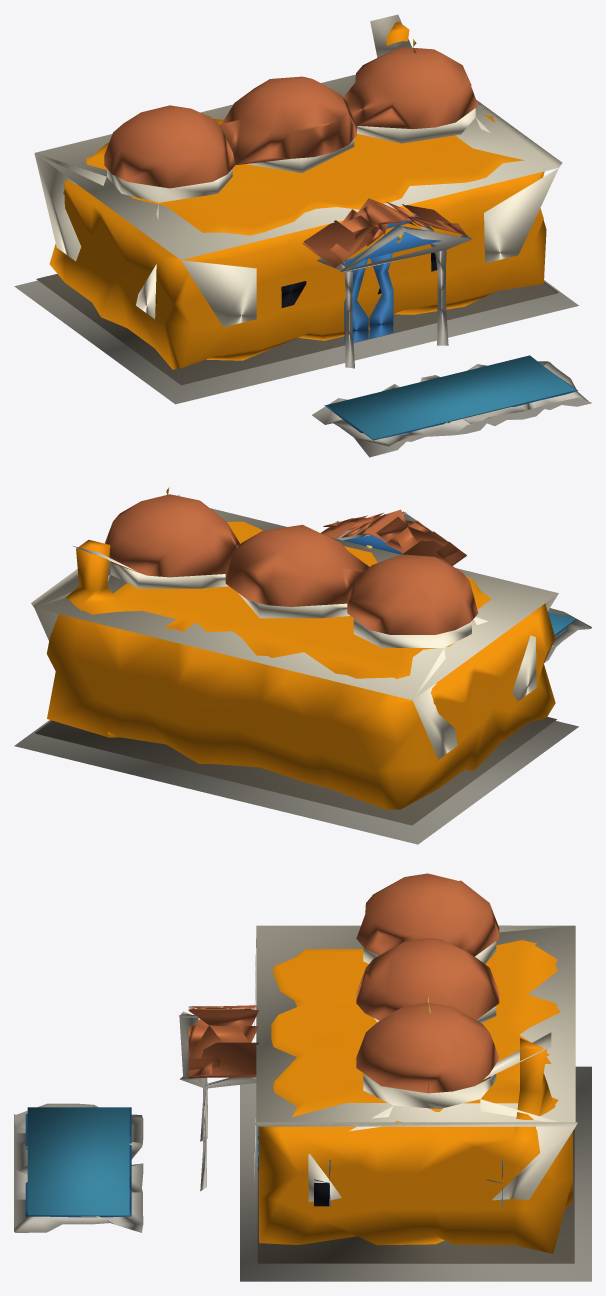
File: civic_bathhouse.glb
The picture shows the model from 3 angles, top to bottom: view 1: azimuth 30°, elevation 25°; view 2: azimuth 150°, elevation 25°; view 3: azimuth 270°, elevation 25°; orthographic projection. The views are drawn at different scales.
Visible parts, largest first — view 1: ochre, cream, terracotta0, step, water.001, stone_dark, marble, azure_wood, terracotta1, paint_azure, terracotta2, dark; view 2: ochre, terracotta0, cream, step, stone_dark, terracotta1, terracotta2; view 3: ochre, terracotta0, cream, step, water.001, stone_dark, terracotta1, marble, terracotta2, paint_azure.
Part boxes in pixels (left/top/right/bottom): ochre: left=49, top=22, right=546, bottom=369; cream: left=34, top=14, right=562, bottom=327; terracotta0: left=104, top=47, right=478, bottom=267; step: left=14, top=280, right=591, bottom=457; water.001: left=326, top=355, right=575, bottom=440; stone_dark: left=36, top=274, right=558, bottom=385; marble: left=317, top=224, right=472, bottom=368; azure_wood: left=344, top=253, right=393, bottom=345; terracotta1: left=304, top=204, right=465, bottom=266; paint_azure: left=324, top=214, right=577, bottom=437; terracotta2: left=341, top=201, right=433, bottom=246; dark: left=155, top=252, right=437, bottom=307; ochre: left=46, top=521, right=555, bottom=809; terracotta0: left=104, top=494, right=478, bottom=634; cream: left=31, top=494, right=558, bottom=759; step: left=14, top=608, right=591, bottom=844; stone_dark: left=35, top=717, right=556, bottom=825; terracotta1: left=320, top=514, right=466, bottom=564; terracotta2: left=341, top=512, right=431, bottom=553; ochre: left=259, top=940, right=572, bottom=1253; terracotta0: left=188, top=873, right=499, bottom=1093; cream: left=254, top=925, right=577, bottom=1201; step: left=14, top=1066, right=591, bottom=1281; water.001: left=27, top=1107, right=129, bottom=1216; stone_dark: left=257, top=1129, right=574, bottom=1263; terracotta1: left=188, top=1005, right=258, bottom=1076; marble: left=179, top=1011, right=256, bottom=1191; terracotta2: left=188, top=1007, right=258, bottom=1042; paint_azure: left=25, top=1107, right=131, bottom=1217.
Bounding box in the file's own units: 12.97 × 6.88 × 14.74.
